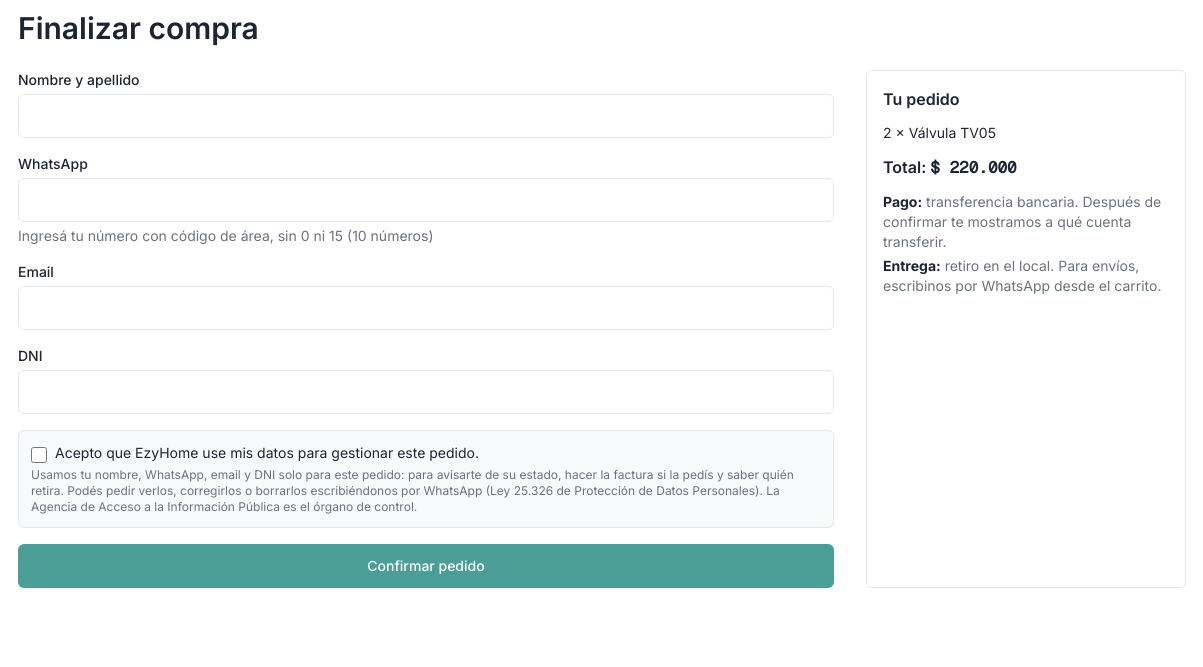
it: CheckoutPage › should show the ERP message when the buyer has too many pending orders (429)
The image size is (1203, 667).
In the field labelled "Nombre y apellido": (426, 116) [18,94,834,138], type "Ana Pérez"
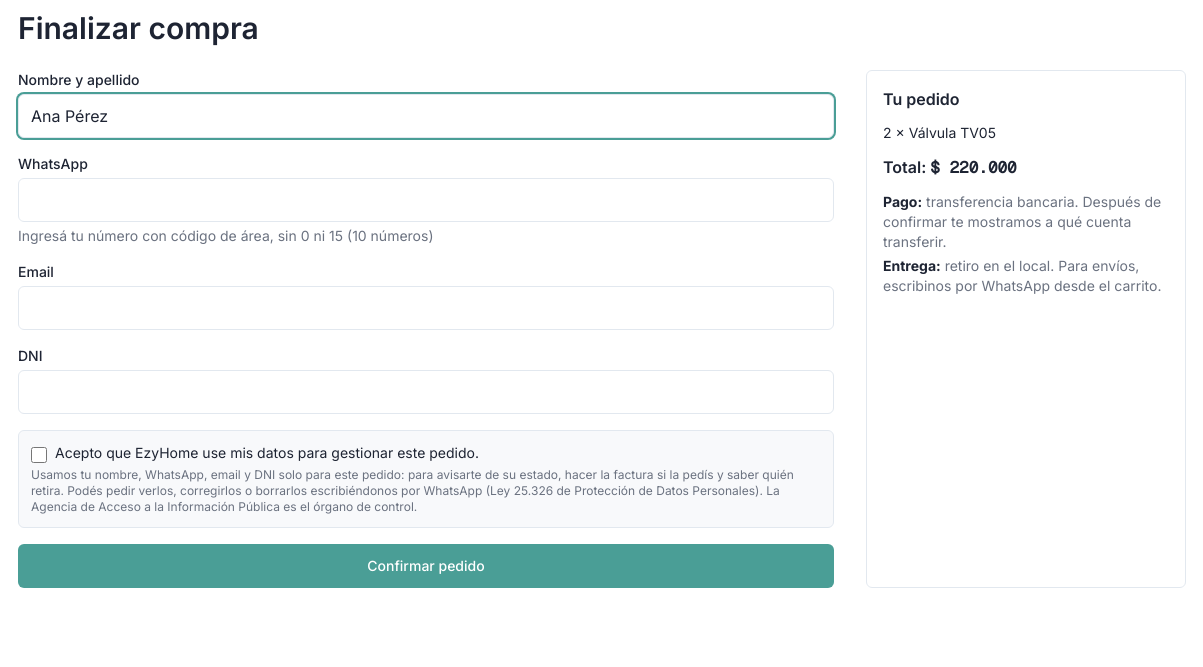
In the field labelled "WhatsApp": (426, 200) [18,178,834,222], type "11 5555-4444"
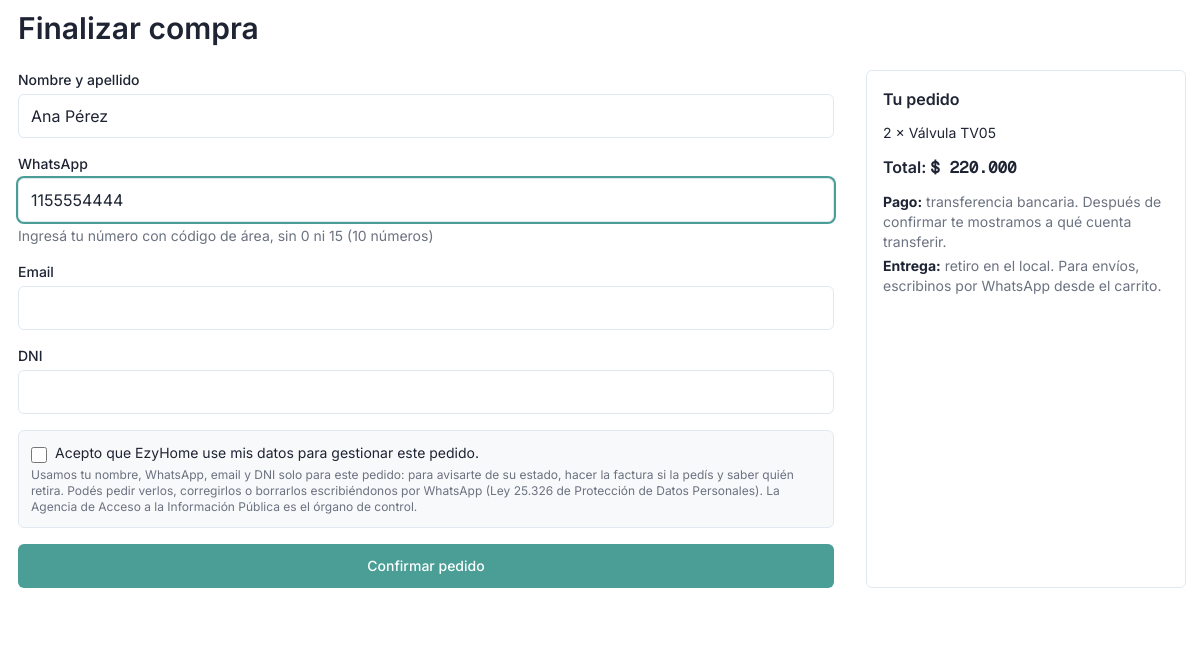
In the field labelled "Email": (426, 308) [18,286,834,330], type "ana@mail.com"
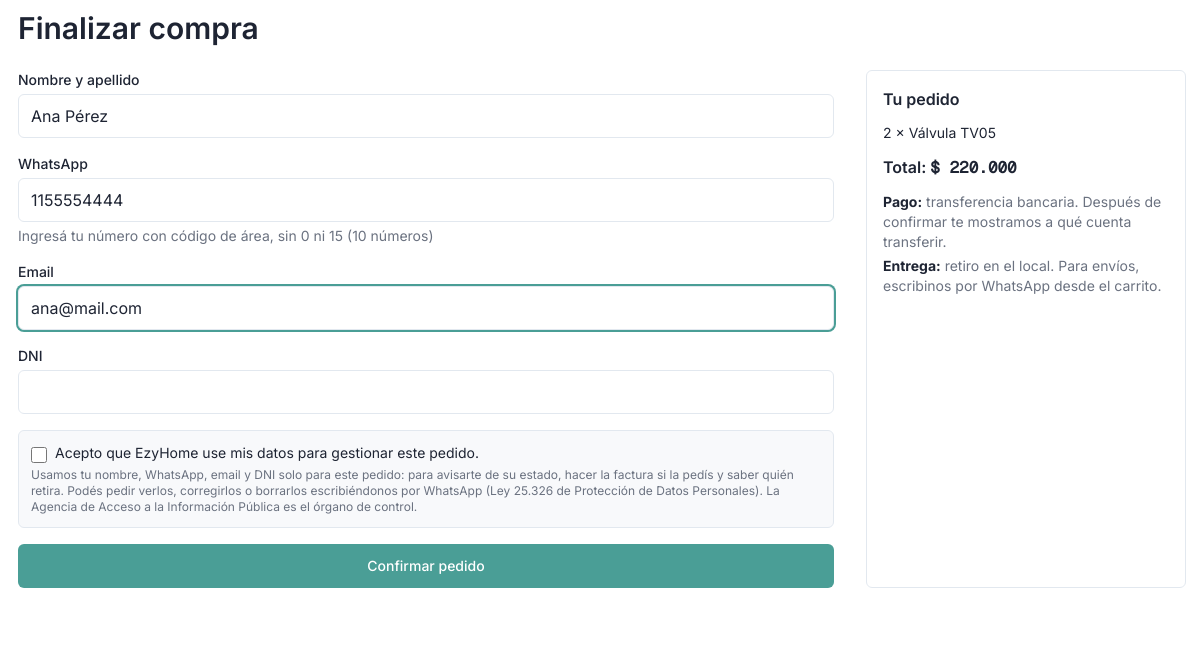
In the field labelled "DNI": (426, 392) [18,370,834,414], type "30111222"
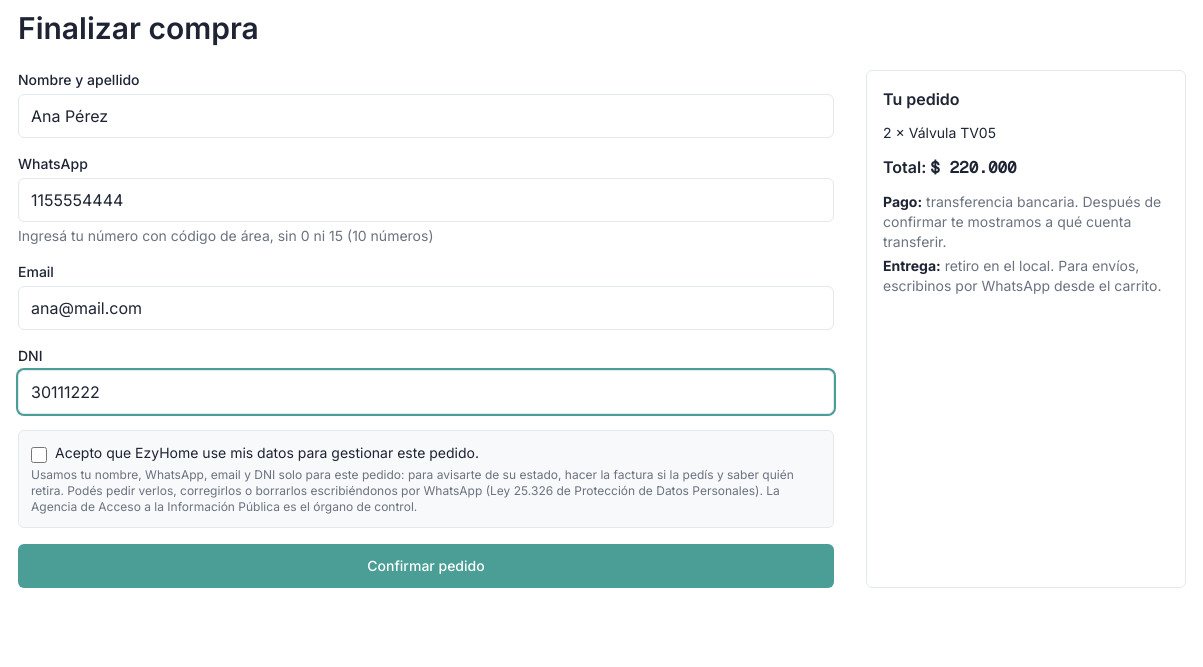
Click the checkbox labelled "Acepto que EzyHome use mis datos para gestionar este pedido.": (39, 455) [31,447,47,463]
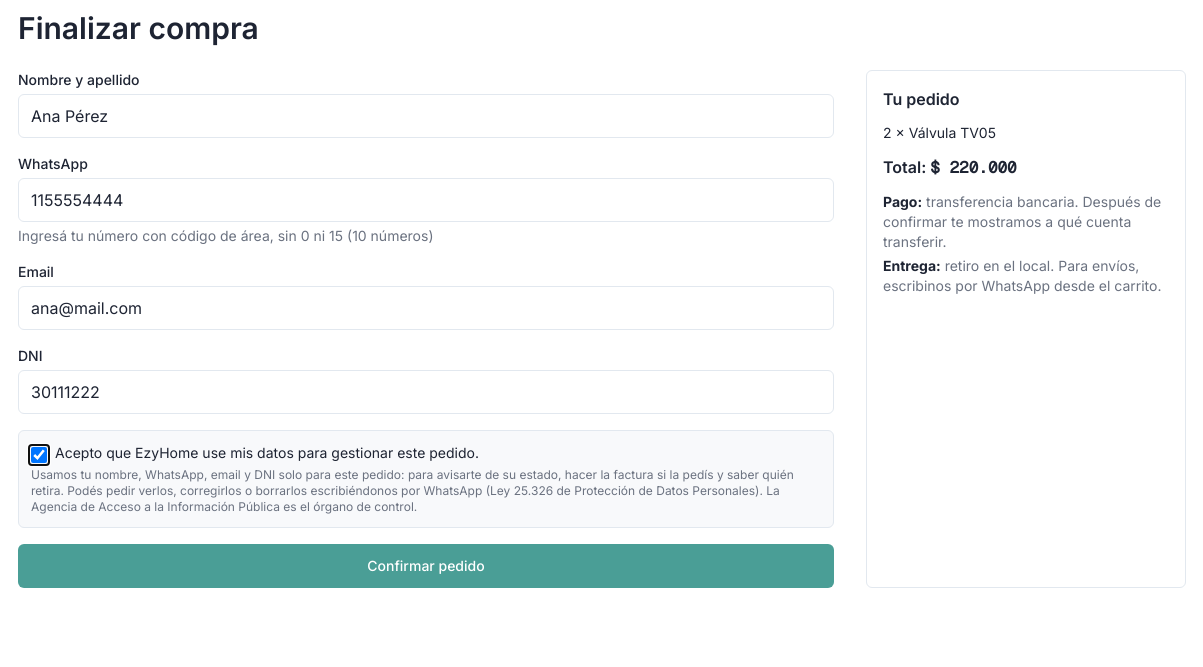
Click the button "Confirmar pedido": (426, 566) [18,544,834,588]
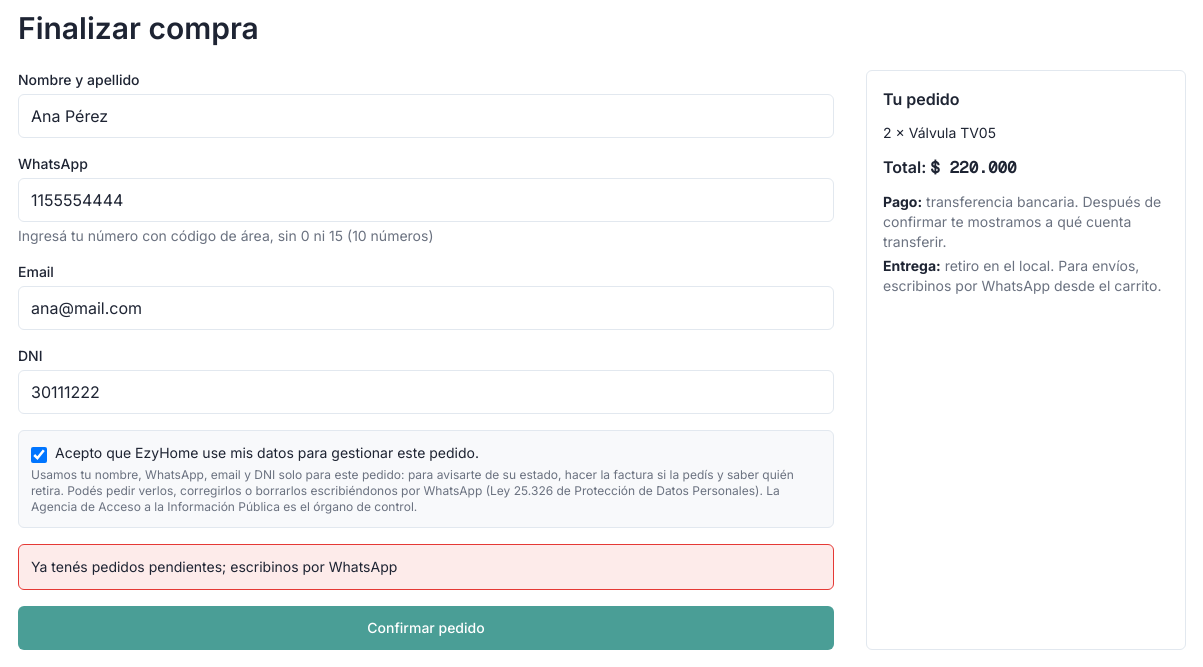
Result: the message shows "Ya tenés pedidos pendientes" at [31,558,397,575]
